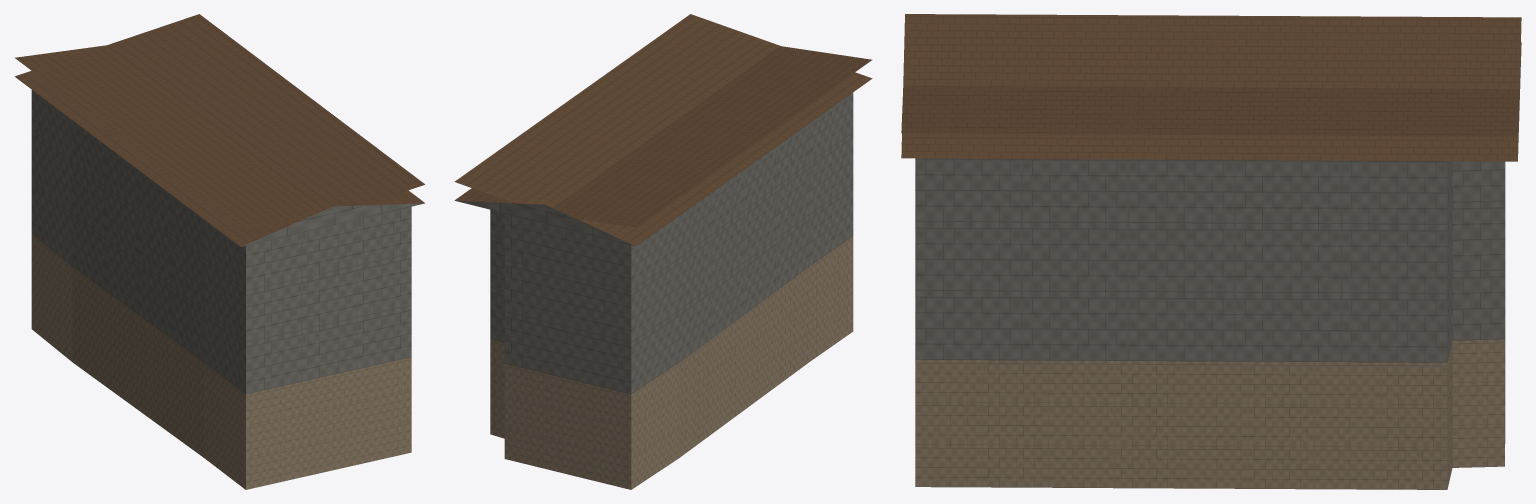
File: bld_c32_-39_459.gltf
The picture shows the model from 3 angles, left to right: view 1: azimuth 30°, elevation 25°; view 2: azimuth 150°, elevation 25°; view 3: azimuth 270°, elevation 25°; orthographic projection. The views are drawn at different scales.
Parts seen in each view (by area): view 1: bld_c32_-39_459; view 2: bld_c32_-39_459; view 3: bld_c32_-39_459.
Part boxes in pixels (left/top/right/bottom): bld_c32_-39_459: left=14, top=14, right=424, bottom=489; bld_c32_-39_459: left=454, top=14, right=872, bottom=489; bld_c32_-39_459: left=901, top=14, right=1521, bottom=489.
Bounding box in the file's own units: 10.55 × 14.4 × 22.52.
4 materials, 4 textured.
